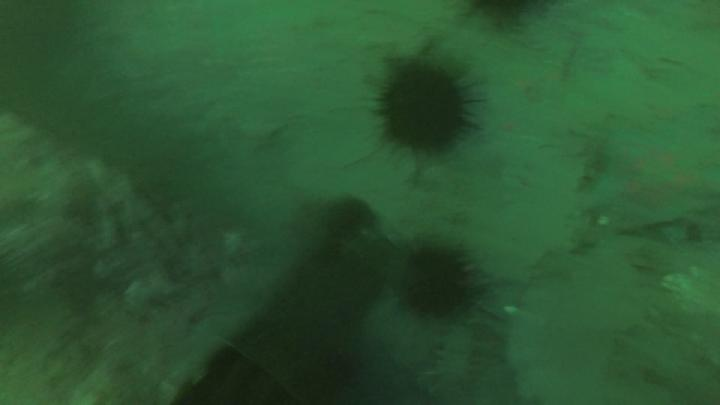echinus: (388, 67, 472, 150), (408, 250, 474, 318), (323, 196, 375, 247)
